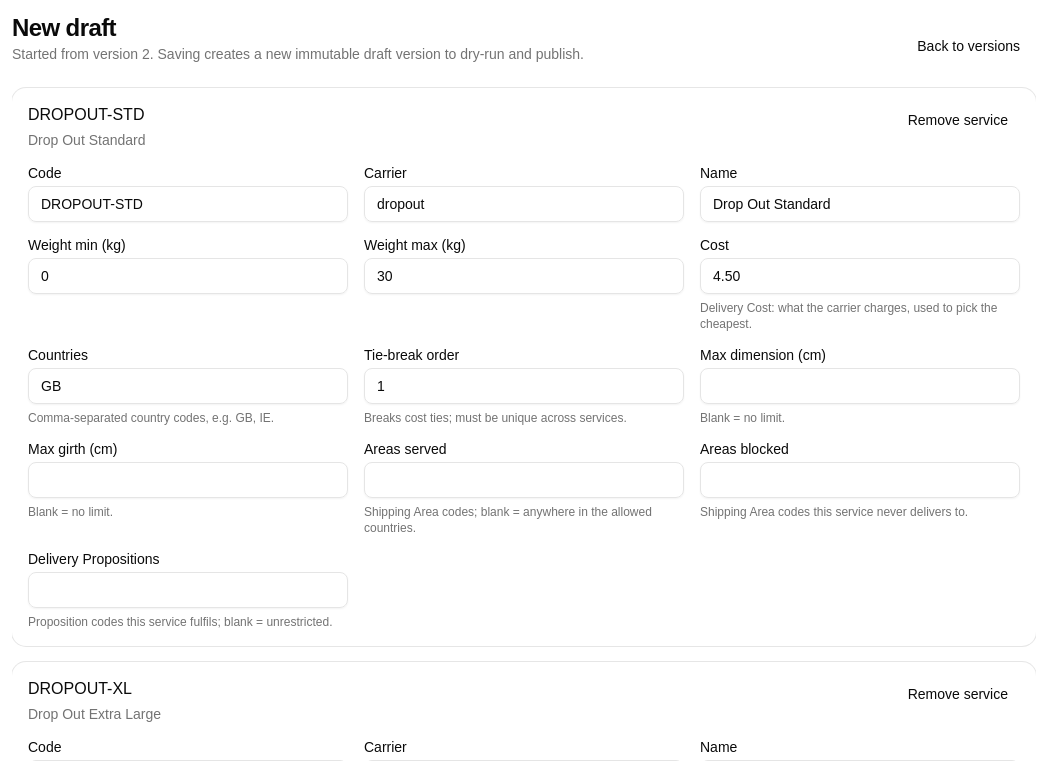
Test: DraftEditorPage › flags a weight range whose minimum exceeds its maximum
The image size is (1048, 761).
Replace the text in the field labelled "Weight min (kg)" with "99" at (188, 276), box [28,258,348,294]
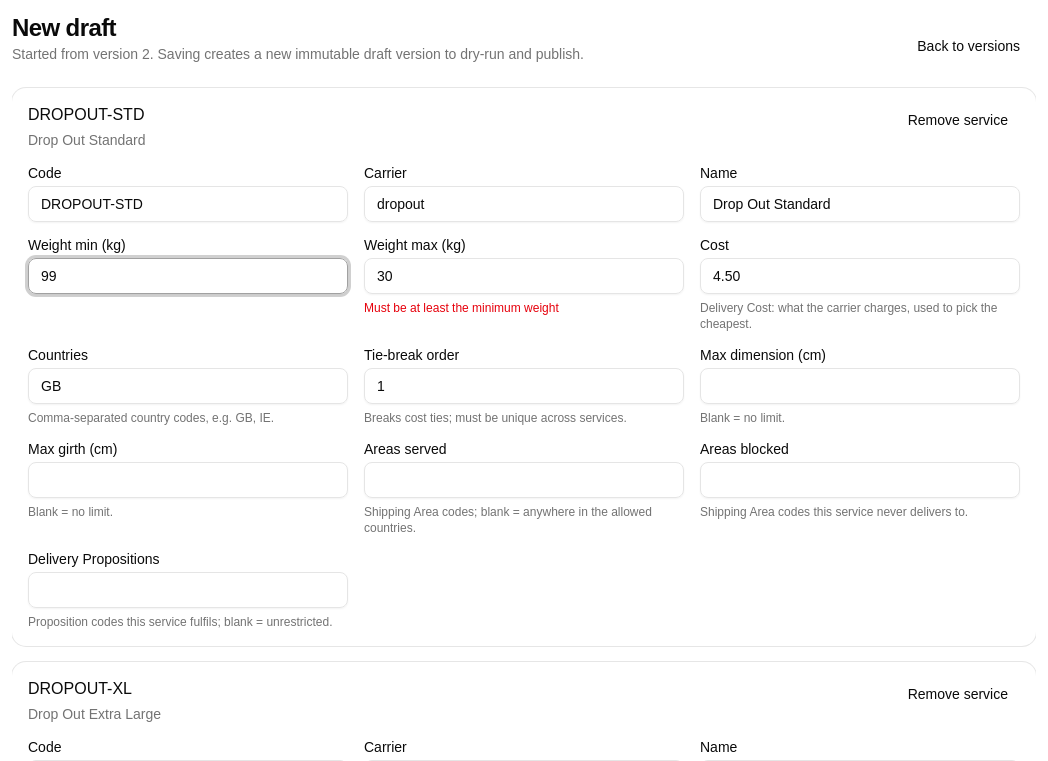
Expected: the text "Must be at least the minimum weight" is shown, [364,301,559,315]
